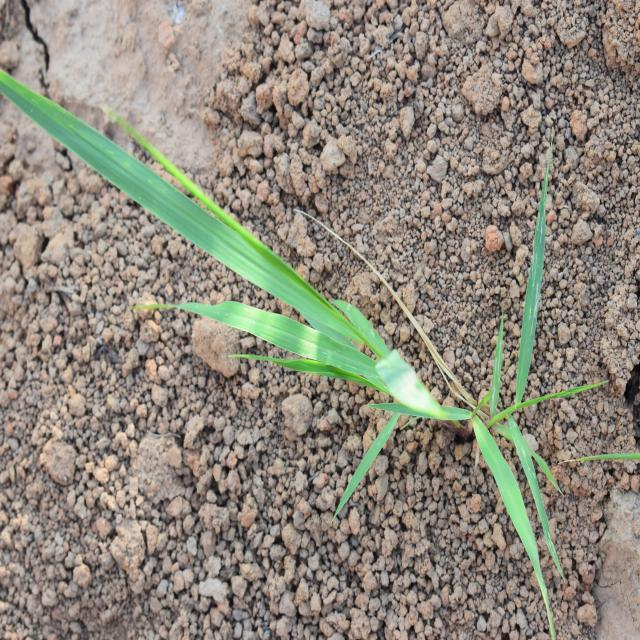green_foxtail: (62, 112, 455, 478), (451, 266, 580, 588)
